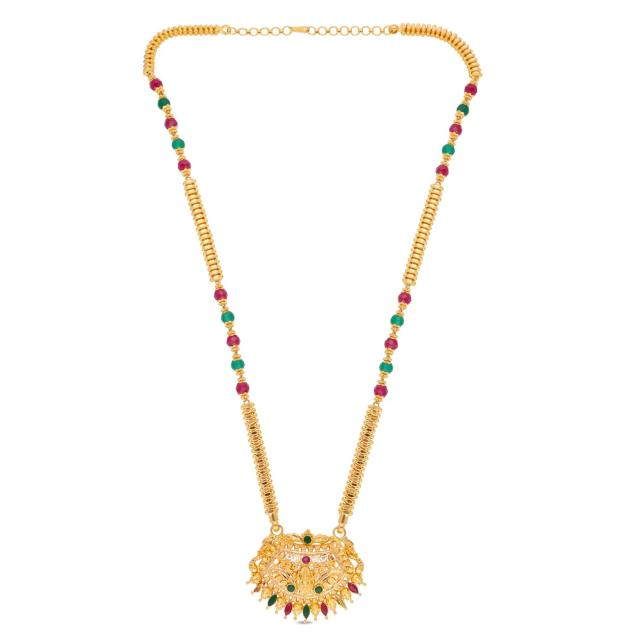missing gem: (335, 596, 345, 608), (253, 583, 264, 591)
